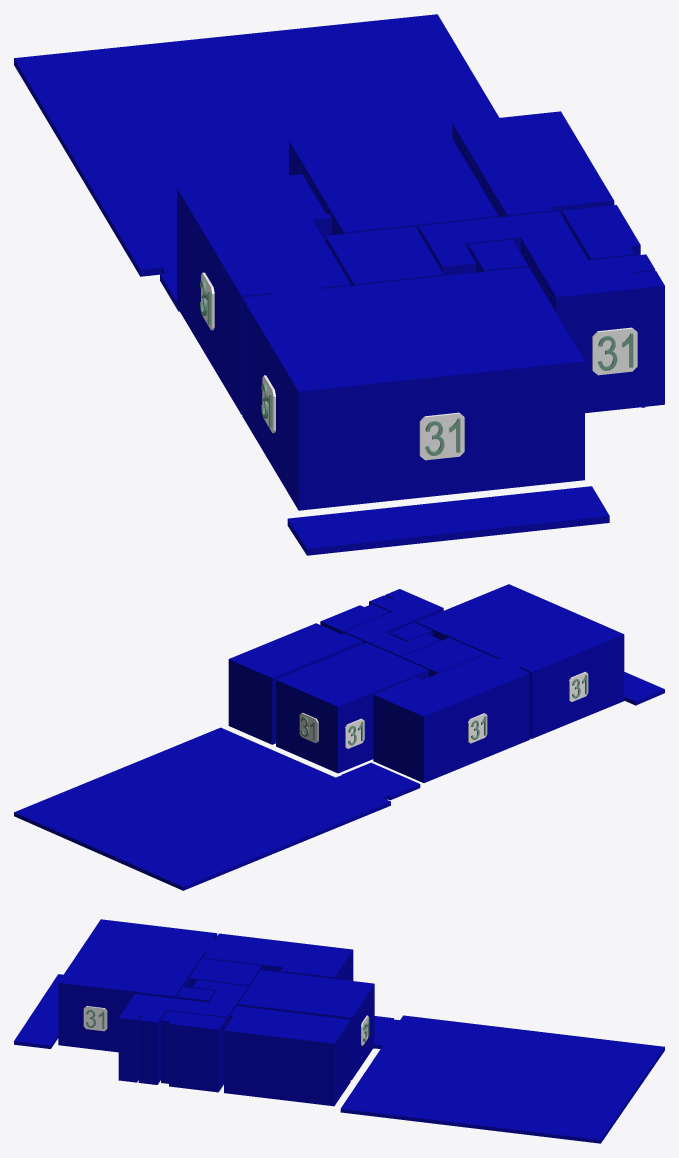
3 views of the same model, one above another, from view 1: azimuth 30°, elevation 25°; view 2: azimuth 150°, elevation 25°; view 3: azimuth 270°, elevation 25° (orthographic). The views are drawn at different scales.
Visible parts, largest first — view 1: g_7, g_9, g_2, g_5, g_1, g_8, g_0, g_3, g_6, g_21, g_18, g_4; view 2: g_9, g_7, g_2, g_1, g_0, g_5, g_3, g_6, g_8, g_4; view 3: g_9, g_7, g_0, g_1, g_5, g_6, g_2, g_8, g_3, g_27, g_4.
Boxes of the visible parts, box(x1,y1,x2,y2) form: g_7: box(242, 267, 584, 510); g_9: box(14, 14, 499, 311); g_2: box(177, 174, 350, 414); g_5: box(418, 211, 664, 413); g_1: box(289, 124, 498, 235); g_8: box(287, 486, 609, 555); g_0: box(452, 111, 614, 217); g_3: box(325, 226, 443, 285); g_6: box(562, 205, 640, 260); g_21: box(419, 412, 464, 460); g_18: box(592, 327, 637, 375); g_4: box(468, 240, 527, 272); g_9: box(14, 727, 420, 890); g_7: box(416, 584, 624, 738); g_2: box(373, 654, 530, 782); g_1: box(276, 642, 428, 773); g_0: box(228, 623, 362, 744); g_5: box(343, 589, 443, 657); g_3: box(401, 637, 484, 676); g_6: box(320, 604, 389, 634); g_8: box(624, 672, 664, 705); g_4: box(389, 623, 432, 641); g_9: box(340, 1015, 664, 1143); g_7: box(58, 919, 217, 1052); g_0: box(224, 1006, 350, 1106); g_1: box(238, 970, 374, 1080); g_5: box(118, 980, 247, 1084); g_6: box(161, 1010, 226, 1092); g_2: box(203, 933, 353, 980); g_8: box(14, 974, 63, 1048); g_3: box(189, 958, 261, 988); g_27: box(83, 1006, 107, 1031); g_4: box(176, 987, 214, 1002).
Bounding box in the file's own units: 14.62 × 2.74 × 24.24.
